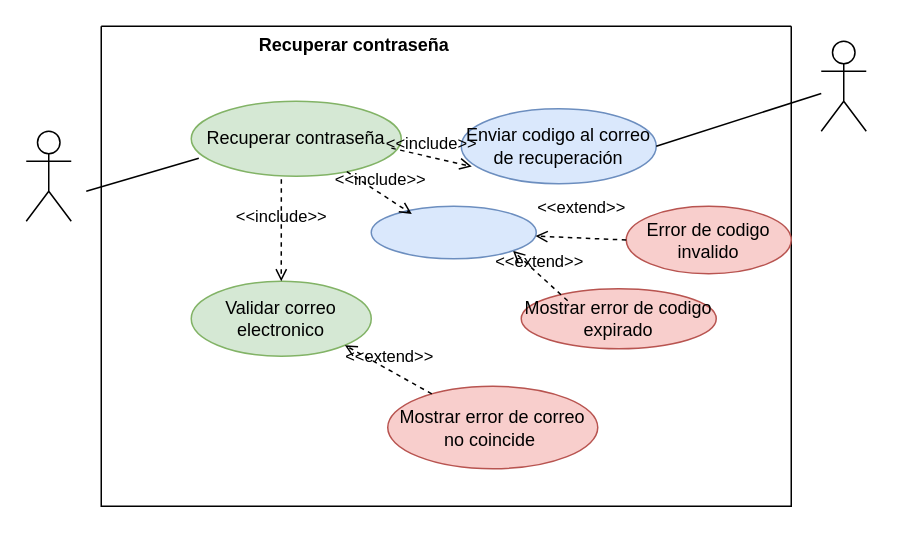
Some shapes in this 897 by 533 pixel diagram are drawn without their labels. The box of each missing label's shape, as (x1, y1, x2, y2) in pixels:
Actor: (25, 130, 71, 221)
Correo: (820, 40, 866, 131)
Validar codigo de recuperacion: (370, 205, 536, 259)
